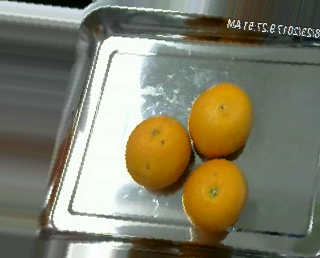Orange: (125, 112, 193, 190), (180, 157, 247, 234), (188, 81, 253, 159)
